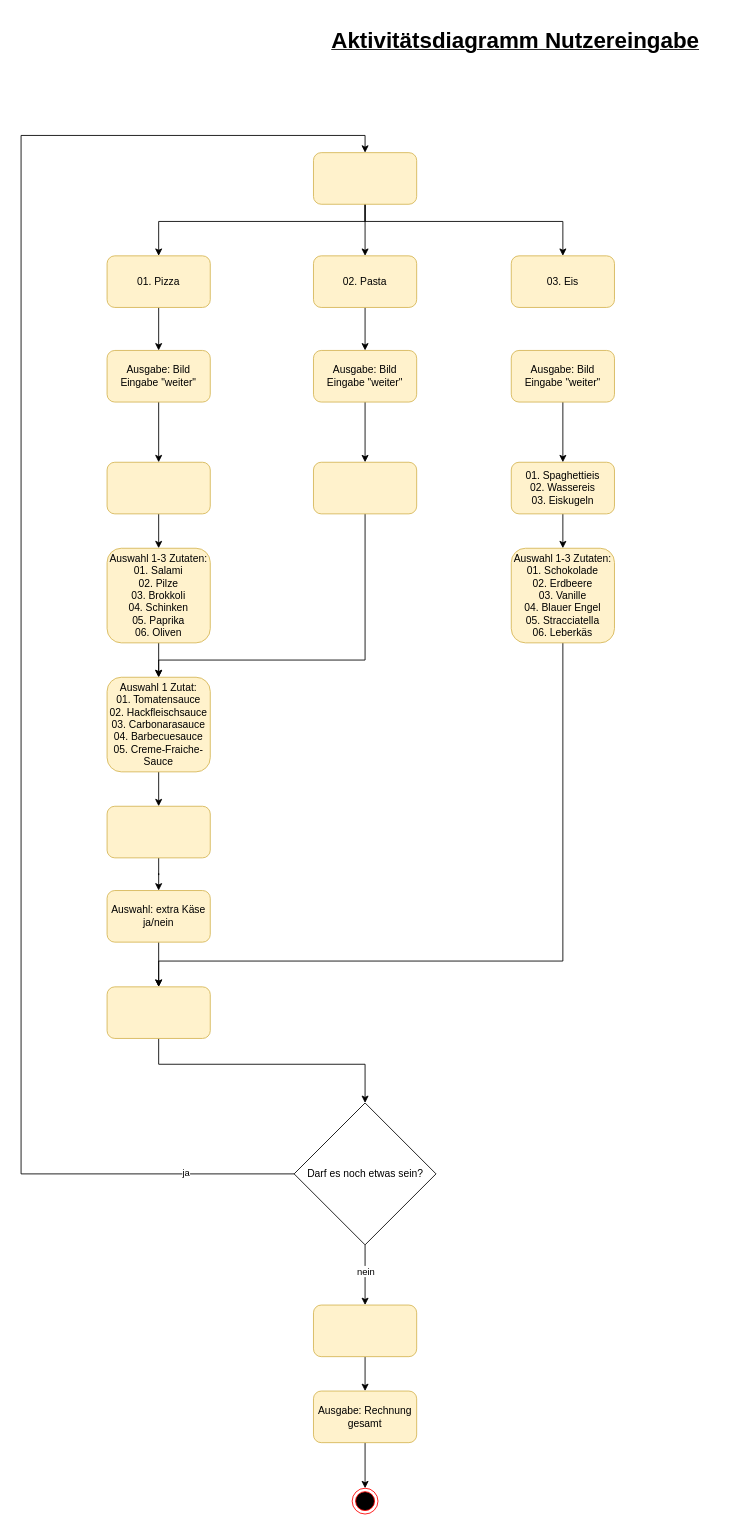
This 750x1529 diagram has some shape labels left out. Each missing label, with the centre of its shape:
01. 26cm 02. 32cm 03. 45cm: pixel 158 487
01. Spaghetti 02. Rigatoni 03. Penne: pixel 365 487
Ausgabe: Produktpreis: pixel 158 1012
Ausgabe: Sound: pixel 365 1330
Auswahl: Scharf ja/nein: pixel 158 831
Willkommen, was möchten sie bestellen?: pixel 365 178
